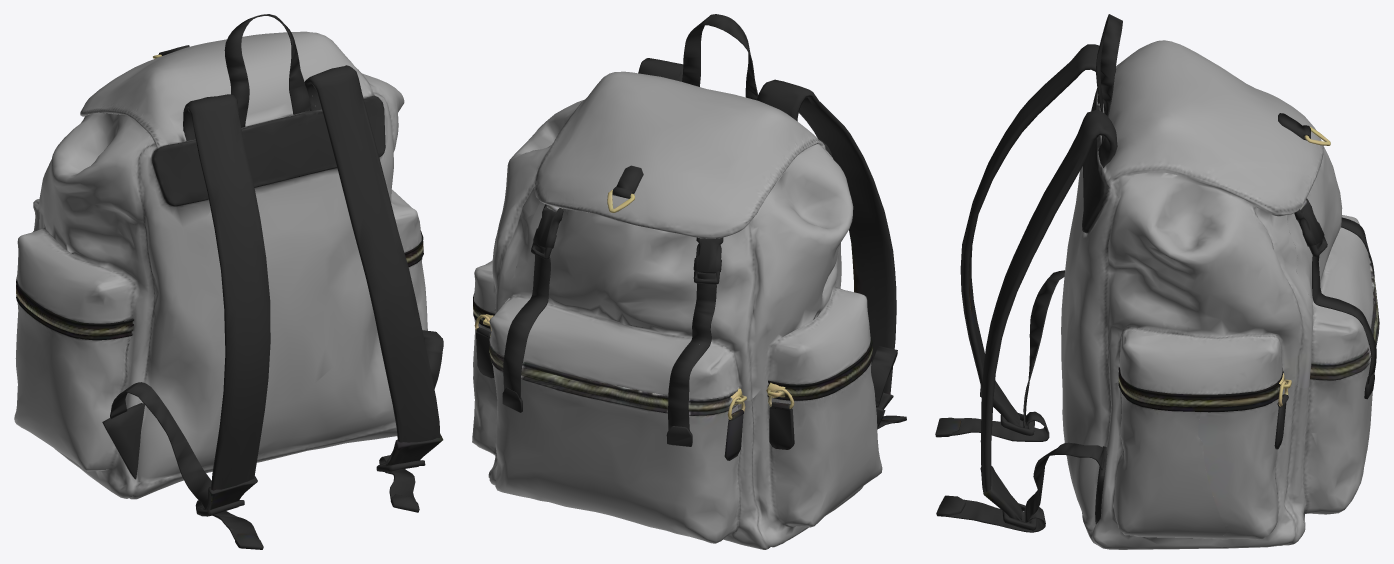
The model's file is backpack-large.glb.
The picture shows the model from 3 angles, left to right: view 1: azimuth 30°, elevation 25°; view 2: azimuth 150°, elevation 25°; view 3: azimuth 270°, elevation 25°; orthographic projection. The views are drawn at different scales.
Parts seen in each view (by area): view 1: Object_0; view 2: Object_0; view 3: Object_0.
Boxes of the visible parts, x1,y1,x2,y2 form: Object_0: (14,14,443,549); Object_0: (472,14,906,549); Object_0: (935,14,1379,549).
Size of the model in its own units: 0.4696 by 0.55 by 0.4782.
1 material, 1 textured.
